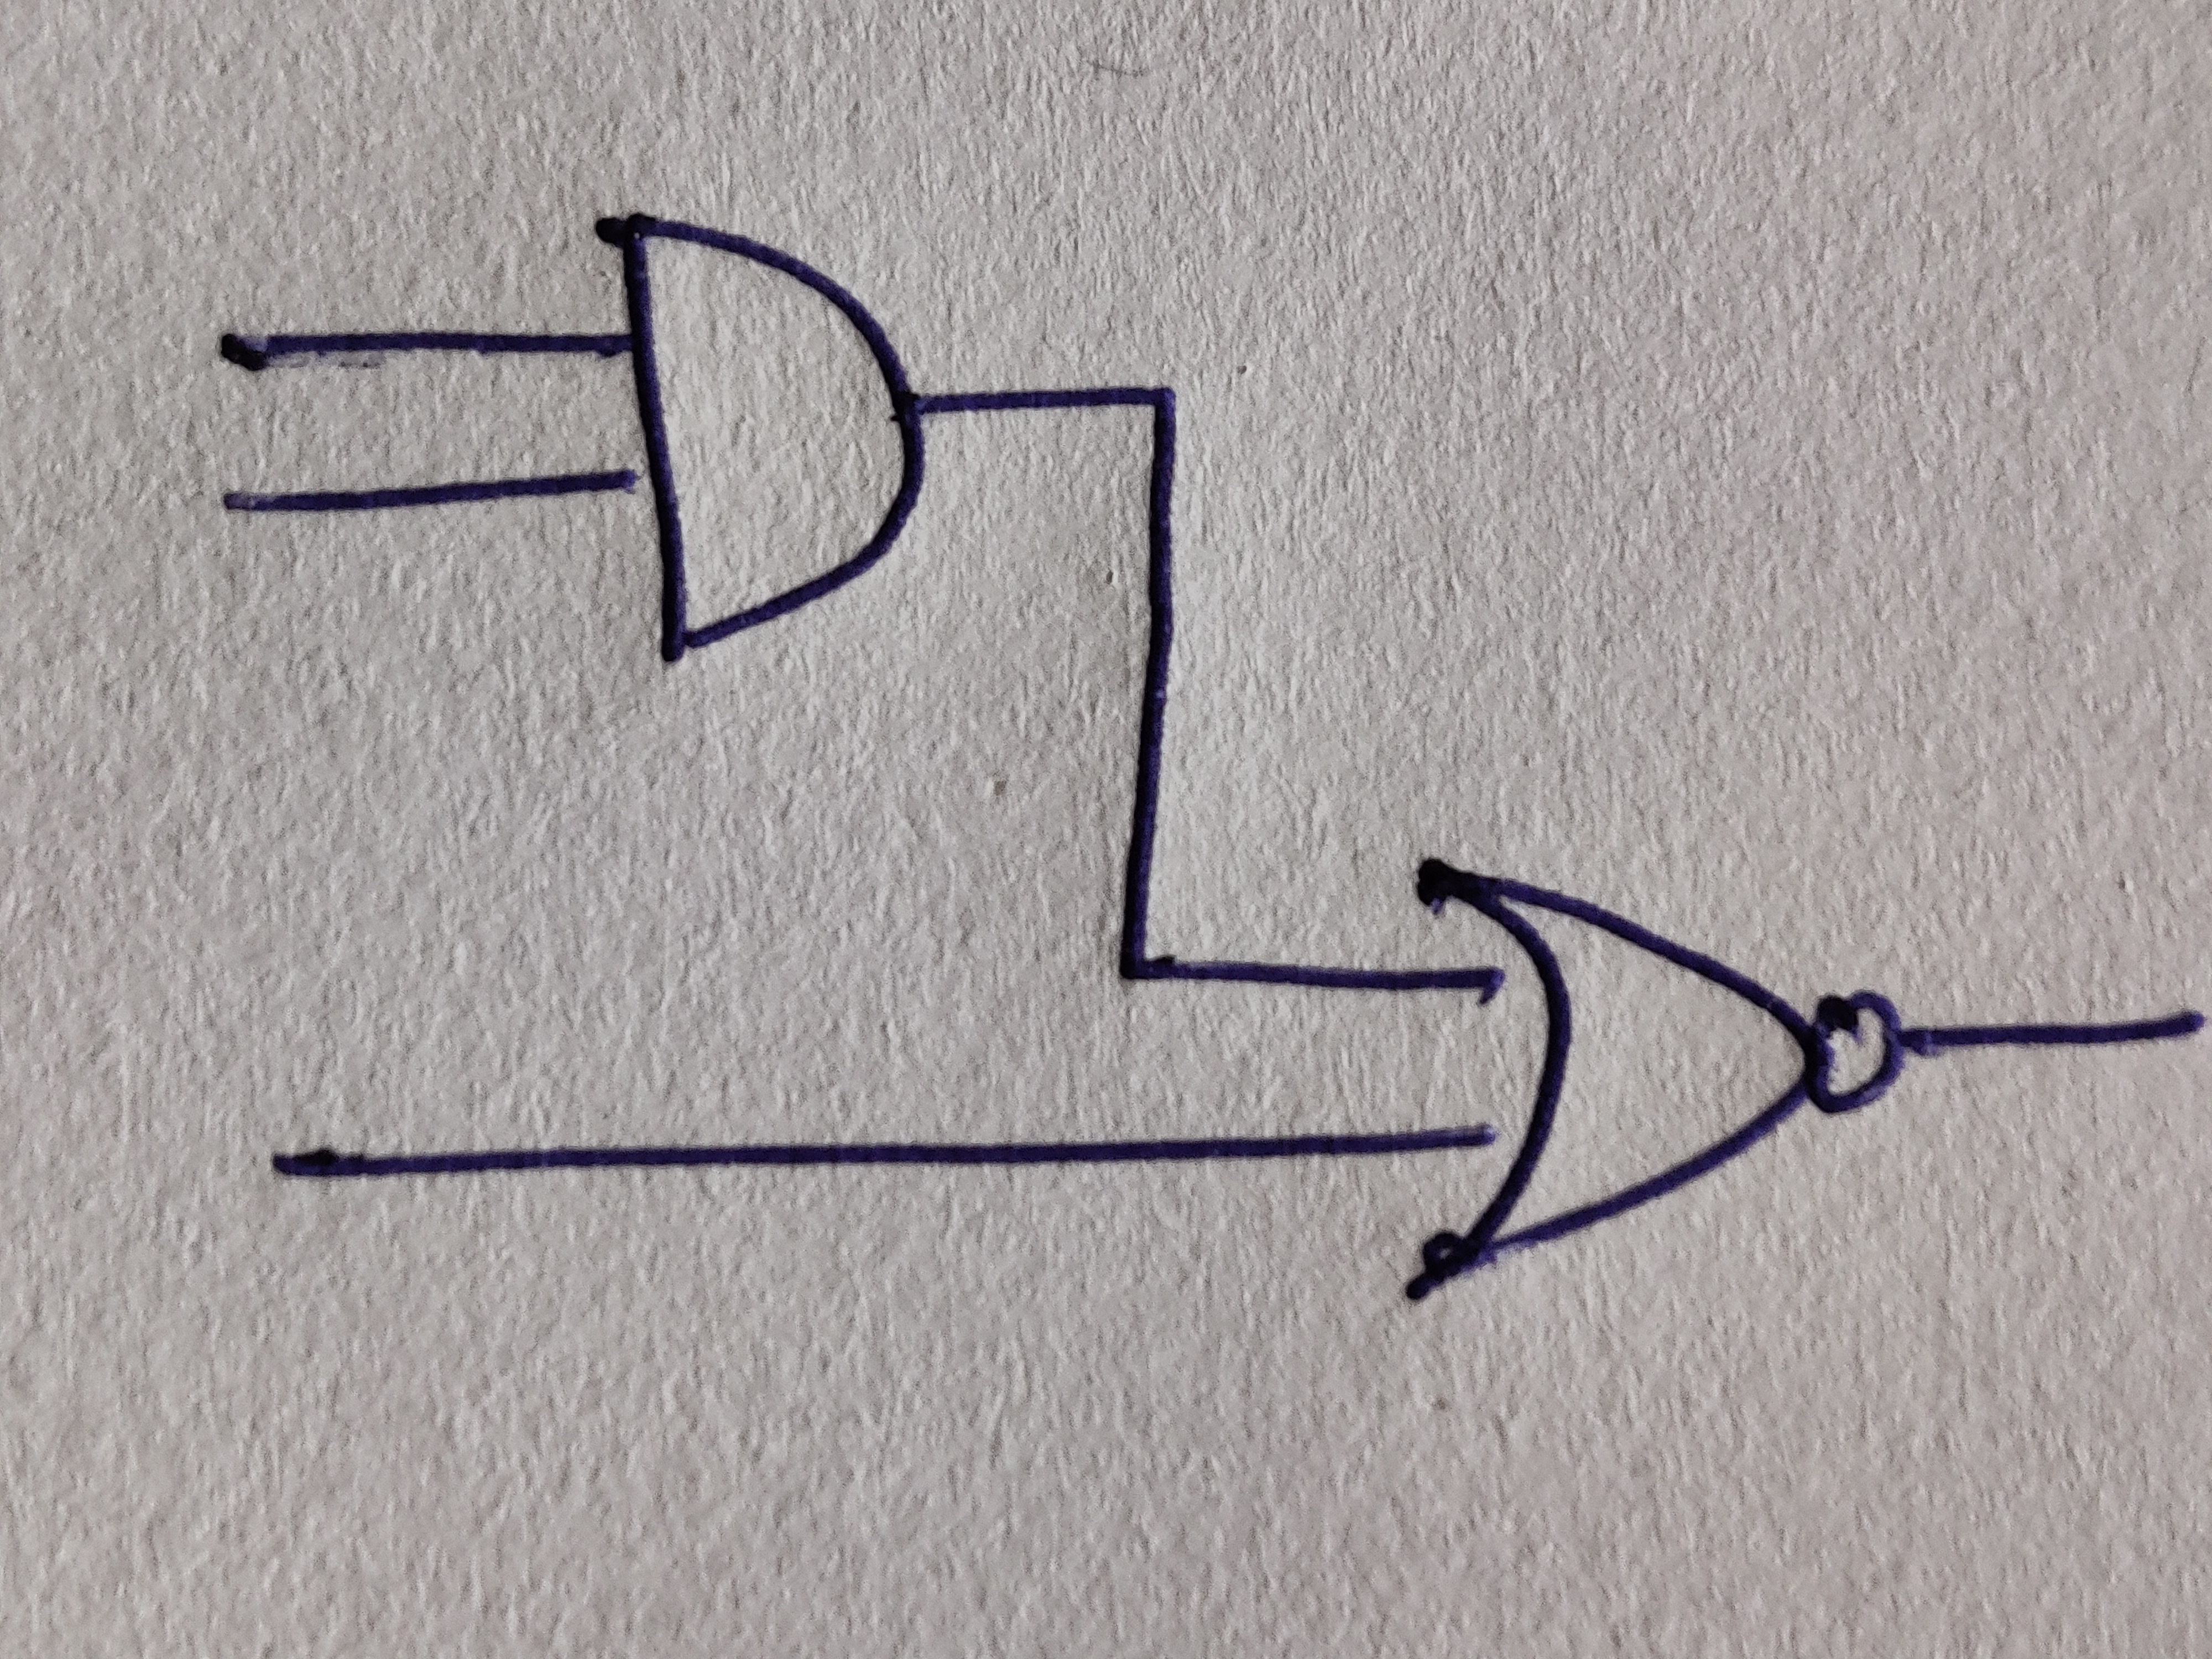and: (622, 216, 923, 664)
not: (1811, 988, 1902, 1115)
or: (1404, 856, 1811, 1302)
